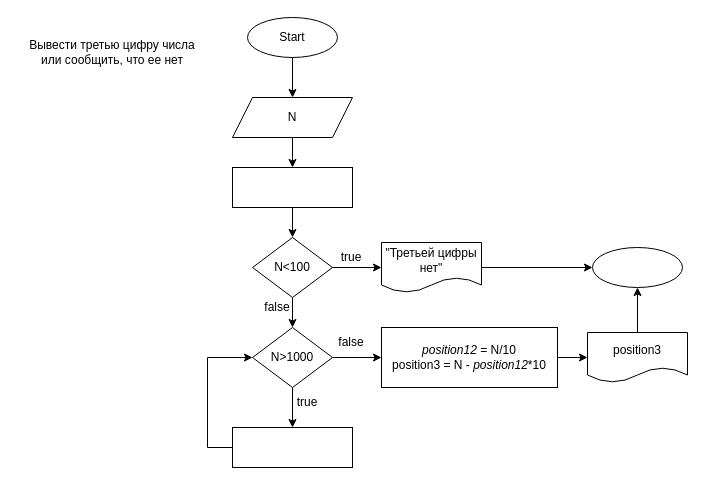
Some shapes in this 705 by 485 pixel diagram are drawn without their labels. The box of each missing label's shape, as (x1, y1, x2, y2) in pixels:
End: (592, 246, 682, 288)
N = N/10: (232, 426, 352, 468)
position12 position3: (232, 166, 352, 208)
